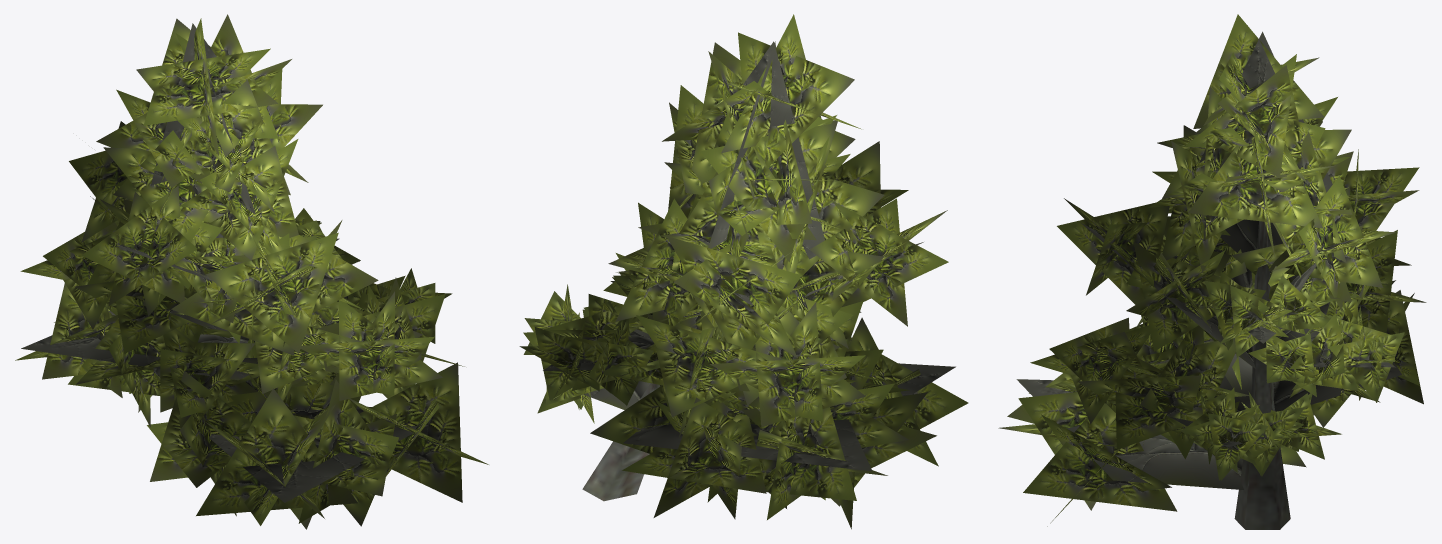
Rendered from BushBig01.FBX.
3 renders of one model, left to right at view 1: azimuth 30°, elevation 25°; view 2: azimuth 150°, elevation 25°; view 3: azimuth 270°, elevation 25°, orthographic. The views are drawn at different scales.
Parts seen in each view (by area): view 1: Bush_LOD0; view 2: Bush_LOD0; view 3: Bush_LOD0.
Part boxes in pixels (x1=…): Bush_LOD0: x1=15, y1=14, x2=488, y2=529; Bush_LOD0: x1=519, y1=14, x2=968, y2=529; Bush_LOD0: x1=998, y1=14, x2=1426, y2=529.
Size of what is drawn, in the model's own units: 402 by 506 by 427.
